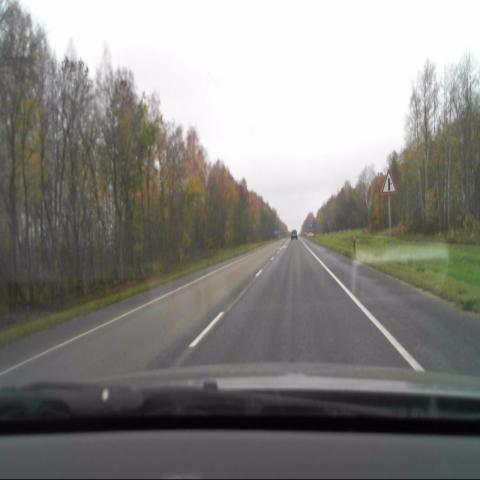2_3_2: (379, 168, 398, 192)
